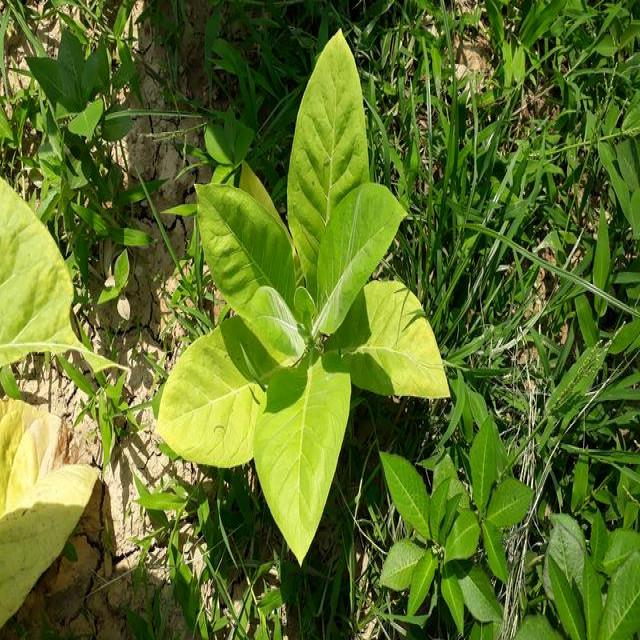crop: (155, 30, 456, 567)
